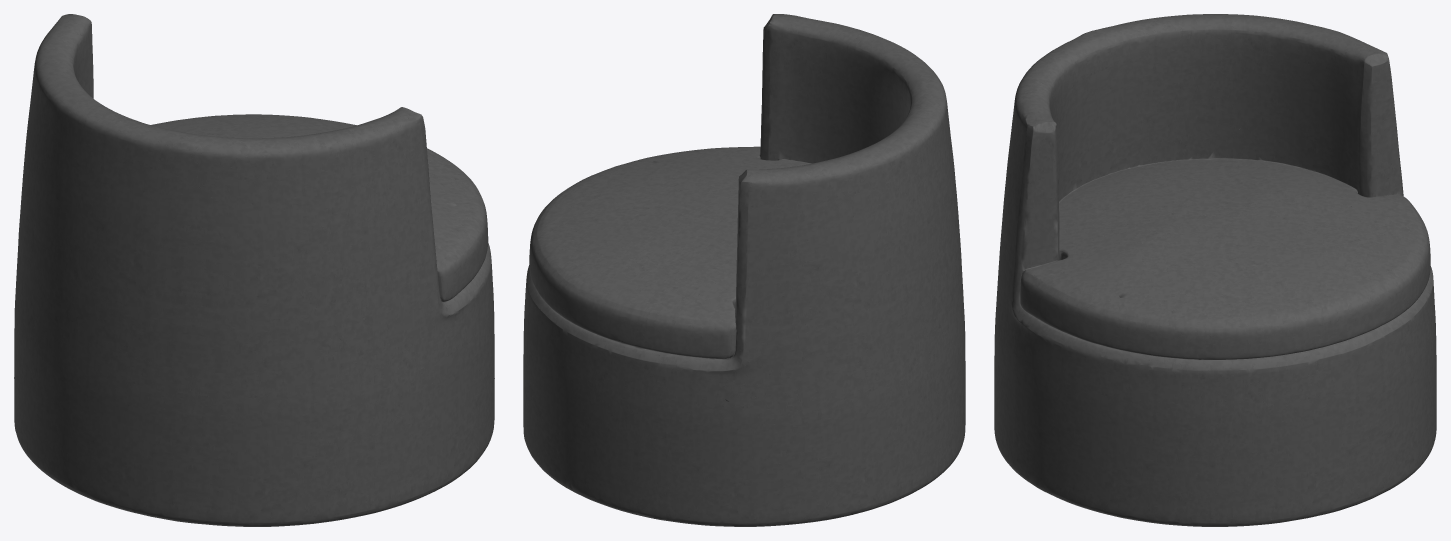
3 views of the same model, side by side, from view 1: azimuth 30°, elevation 25°; view 2: azimuth 150°, elevation 25°; view 3: azimuth 270°, elevation 25° (orthographic). The views are drawn at different scales.
Parts seen in each view (by area): view 1: tripo_node_a6e83d83-5f25-415c-8d4c-c3404038d41b; view 2: tripo_node_a6e83d83-5f25-415c-8d4c-c3404038d41b; view 3: tripo_node_a6e83d83-5f25-415c-8d4c-c3404038d41b.
Boxes of the visible parts, <box> form: tripo_node_a6e83d83-5f25-415c-8d4c-c3404038d41b: <box>14,14,494,526</box>; tripo_node_a6e83d83-5f25-415c-8d4c-c3404038d41b: <box>523,14,965,526</box>; tripo_node_a6e83d83-5f25-415c-8d4c-c3404038d41b: <box>994,14,1436,526</box>.
Size of the model in its own units: 0.85 by 0.73 by 0.85.
1 material, 1 textured.
